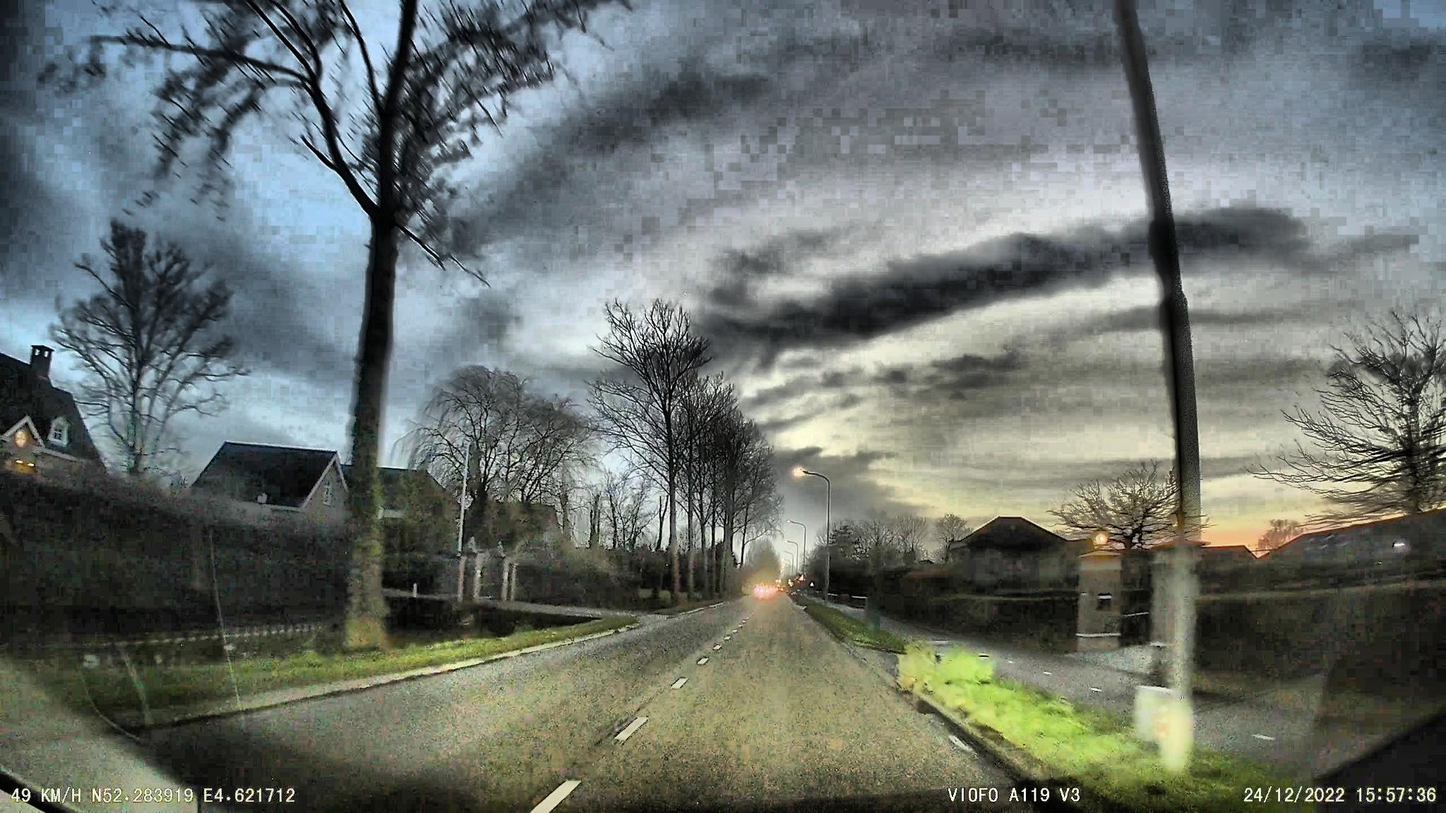Roads: (172, 594, 1016, 813)
